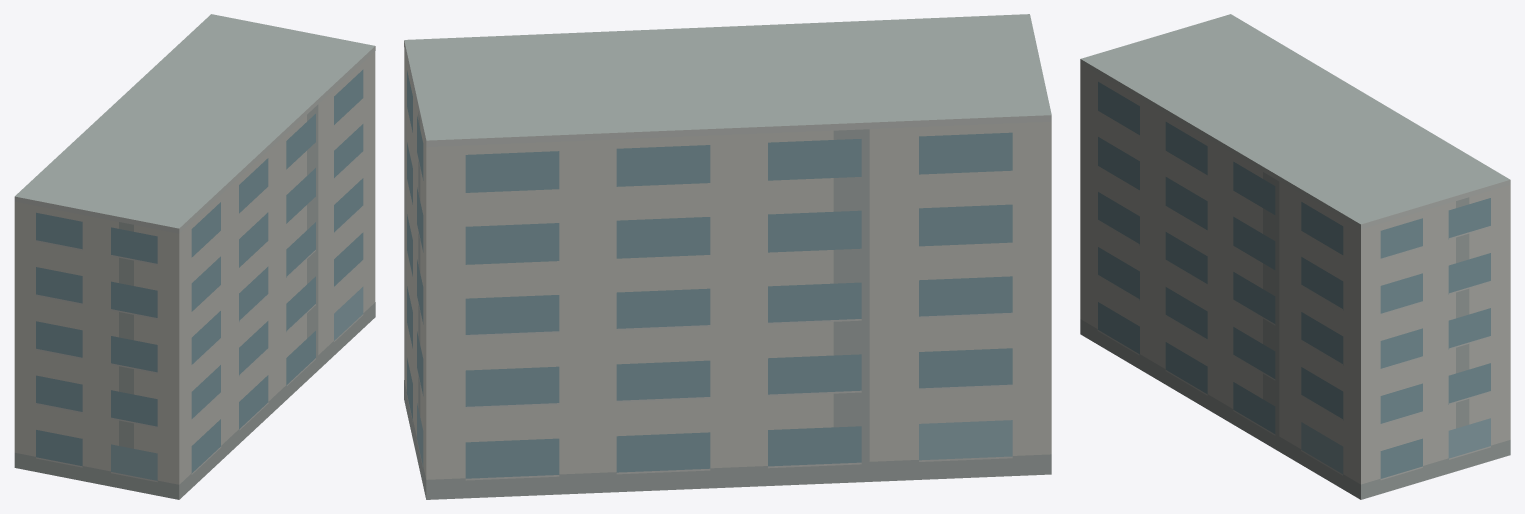
The model's file is survey-upis-32907932.glb.
The picture shows the model from 3 angles, left to right: view 1: azimuth 30°, elevation 25°; view 2: azimuth 150°, elevation 25°; view 3: azimuth 270°, elevation 25°; orthographic projection. The views are drawn at different scales.
Visible parts, largest first — view 1: survey-upis-32907932.tmp; view 2: survey-upis-32907932.tmp; view 3: survey-upis-32907932.tmp.
Part boxes in pixels (<box>): survey-upis-32907932.tmp: <box>14,14,375,499</box>; survey-upis-32907932.tmp: <box>404,14,1051,499</box>; survey-upis-32907932.tmp: <box>1080,14,1510,499</box>.
Bounding box in the file's own units: 21.48 × 13.1 × 18.55.
